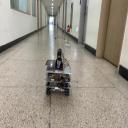cart: (46, 62, 72, 96)
